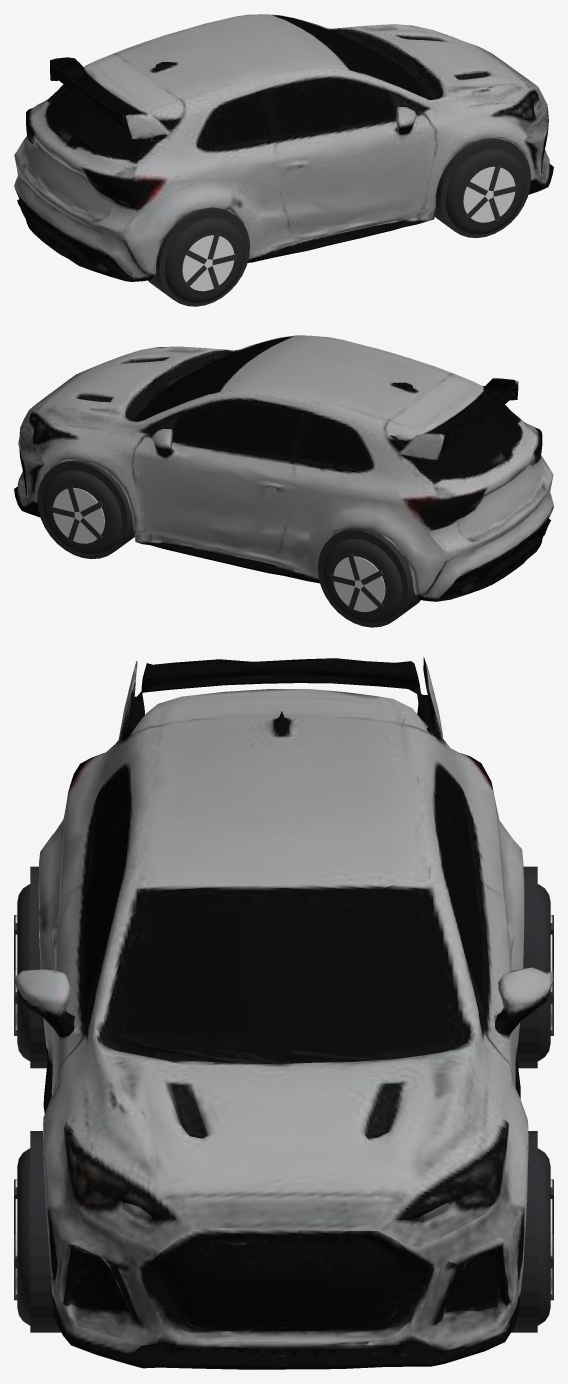
File: hatch.glb
3 views of the same model, one above another, from view 1: azimuth 30°, elevation 25°; view 2: azimuth 150°, elevation 25°; view 3: azimuth 270°, elevation 25° (orthographic). The views are drawn at different scales.
Parts seen in each view (by area): view 1: Body, Wheel_RR, Wheel_FR, Liner_FR, Liner_RR; view 2: Body, Wheel_FL, Wheel_RL, Liner_RL, Liner_FL; view 3: Body, Liner_FR, Liner_FL, Wheel_FL, Wheel_FR, Liner_RL, Wheel_RR, Wheel_RL, Liner_RR.
Boxes of the visible parts, left/top/right/bottom form: Body: left=14, top=14, right=553, bottom=281; Wheel_RR: left=165, top=217, right=244, bottom=303; Wheel_FR: left=446, top=149, right=525, bottom=234; Liner_FR: left=434, top=138, right=530, bottom=237; Liner_RR: left=148, top=207, right=249, bottom=306; Body: left=14, top=335, right=553, bottom=601; Wheel_FL: left=42, top=470, right=122, bottom=555; Wheel_RL: left=323, top=539, right=402, bottom=624; Liner_RL: left=317, top=528, right=420, bottom=627; Liner_FL: left=37, top=460, right=134, bottom=558; Body: left=14, top=657, right=553, bottom=1369; Liner_FR: left=30, top=1131, right=61, bottom=1332; Liner_FL: left=511, top=1131, right=537, bottom=1332; Wheel_FL: left=537, top=1148, right=553, bottom=1325; Wheel_FR: left=14, top=1148, right=30, bottom=1325; Liner_RL: left=517, top=866, right=537, bottom=1068; Wheel_RR: left=14, top=884, right=30, bottom=1060; Wheel_RL: left=537, top=884, right=553, bottom=1060; Liner_RR: left=30, top=866, right=47, bottom=1068.
Bounding box in the file's own units: 1.86 × 0.7148 × 0.9553.
Materials: 5 (1 with a texture image).
